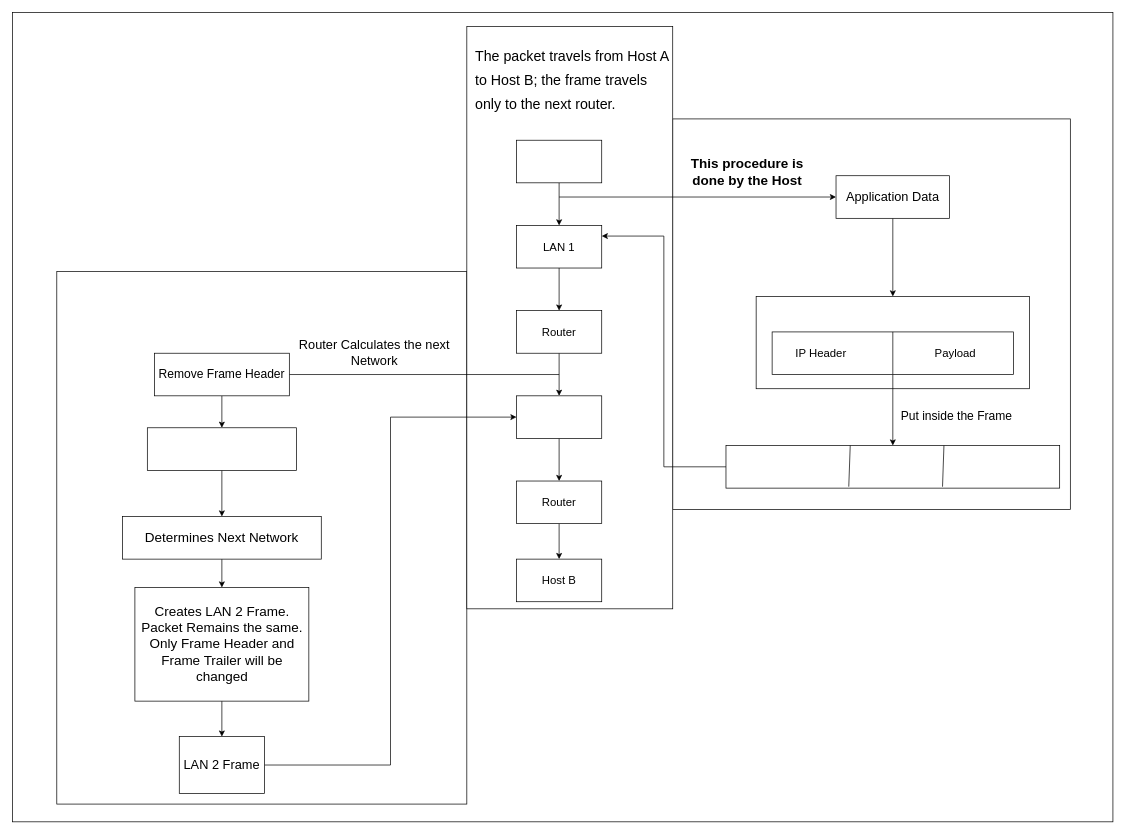
Image size: 1125x834. Some labels were removed from this diagram. Here are the shapes that lost their labels. From the top down, the box of each, then its label:
(516, 140, 602, 183): Host A
(755, 296, 1030, 389): Internet Packet
(516, 395, 602, 438): LAN 2
(147, 427, 296, 470): Packet Remains Same
(725, 445, 1060, 488): Frame Header Packet Frame Trailer
